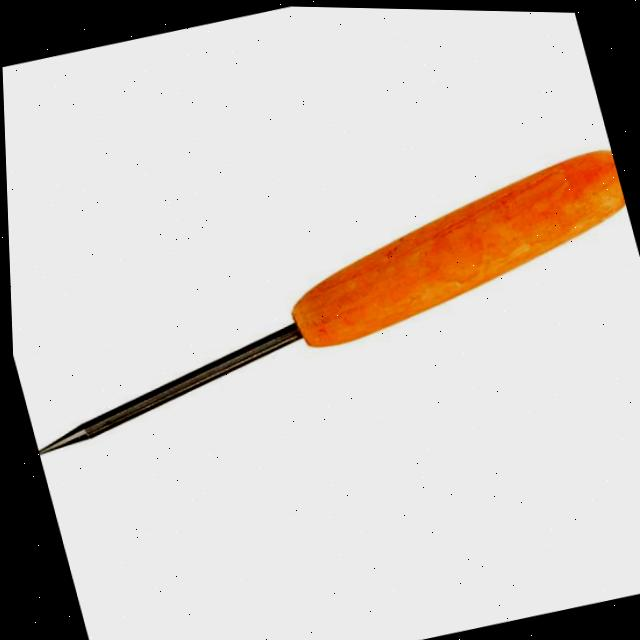ice pick: (4, 130, 640, 468)
